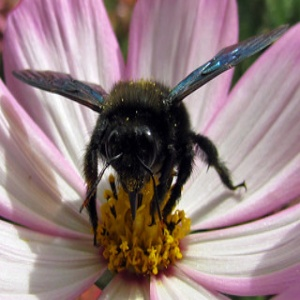bee: (21, 64, 238, 248)
